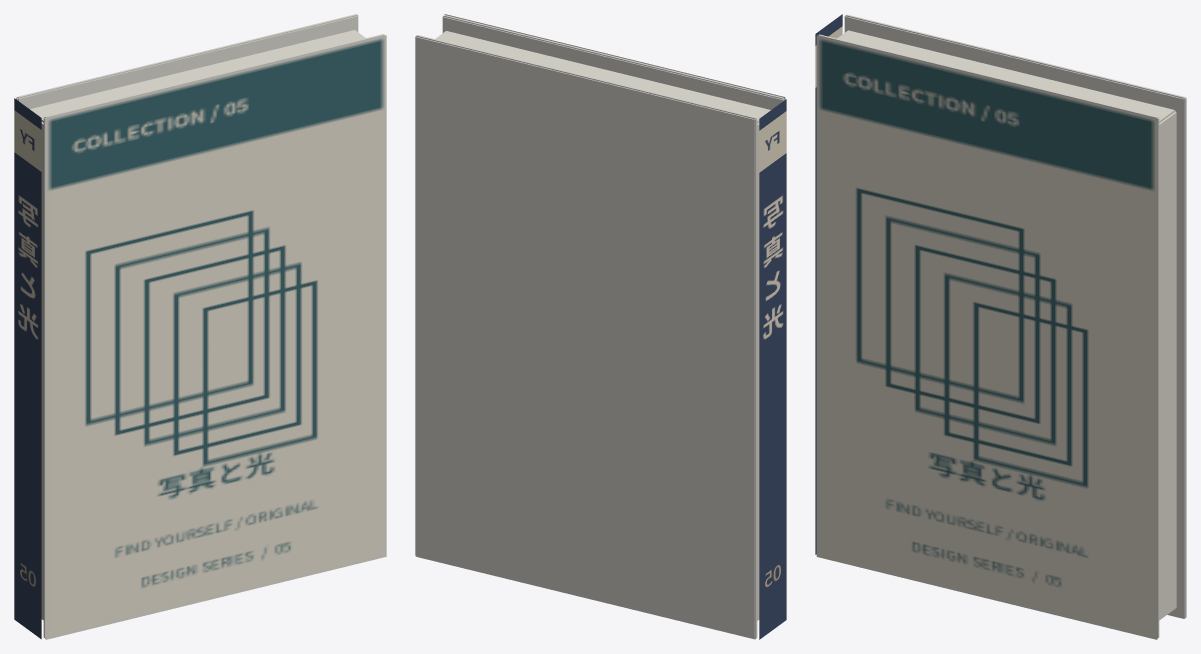
File: sku_v23_book_5.glb
3 views of the same model, side by side, from view 1: azimuth 30°, elevation 25°; view 2: azimuth 150°, elevation 25°; view 3: azimuth 330°, elevation 25° (orthographic).
Parts seen in each view (by area): view 1: sku_v23_book_5_V23_original_editorial, sku_v23_book_5_V23_printed_genre_spines, sku_v23_book_5_Warm_white_coating, sku_v23_book_5_Paper_page_edges; view 2: sku_v23_book_5_Warm_white_coating, sku_v23_book_5_V23_printed_genre_spines, sku_v23_book_5_Paper_page_edges, sku_v23_book_5_V23_original_editorial; view 3: sku_v23_book_5_V23_original_editorial, sku_v23_book_5_Warm_white_coating, sku_v23_book_5_Paper_page_edges, sku_v23_book_5_V23_printed_genre_spines.
Boxes of the visible parts, x1=… form: sku_v23_book_5_V23_original_editorial: x1=45, y1=35, x2=386, y2=639; sku_v23_book_5_V23_printed_genre_spines: x1=14, y1=98, x2=41, y2=639; sku_v23_book_5_Warm_white_coating: x1=16, y1=14, x2=385, y2=638; sku_v23_book_5_Paper_page_edges: x1=30, y1=30, x2=365, y2=620; sku_v23_book_5_Warm_white_coating: x1=415, y1=15, x2=784, y2=639; sku_v23_book_5_V23_printed_genre_spines: x1=759, y1=99, x2=786, y2=639; sku_v23_book_5_Paper_page_edges: x1=435, y1=31, x2=770, y2=620; sku_v23_book_5_V23_original_editorial: x1=444, y1=14, x2=785, y2=99; sku_v23_book_5_V23_original_editorial: x1=816, y1=36, x2=1157, y2=639; sku_v23_book_5_Warm_white_coating: x1=818, y1=14, x2=1186, y2=638; sku_v23_book_5_Paper_page_edges: x1=837, y1=30, x2=1176, y2=620; sku_v23_book_5_V23_printed_genre_spines: x1=815, y1=14, x2=842, y2=554.
Size of the model in its own units: 0.131 by 0.19 by 0.0197.
Materials: 4 (2 with a texture image).
